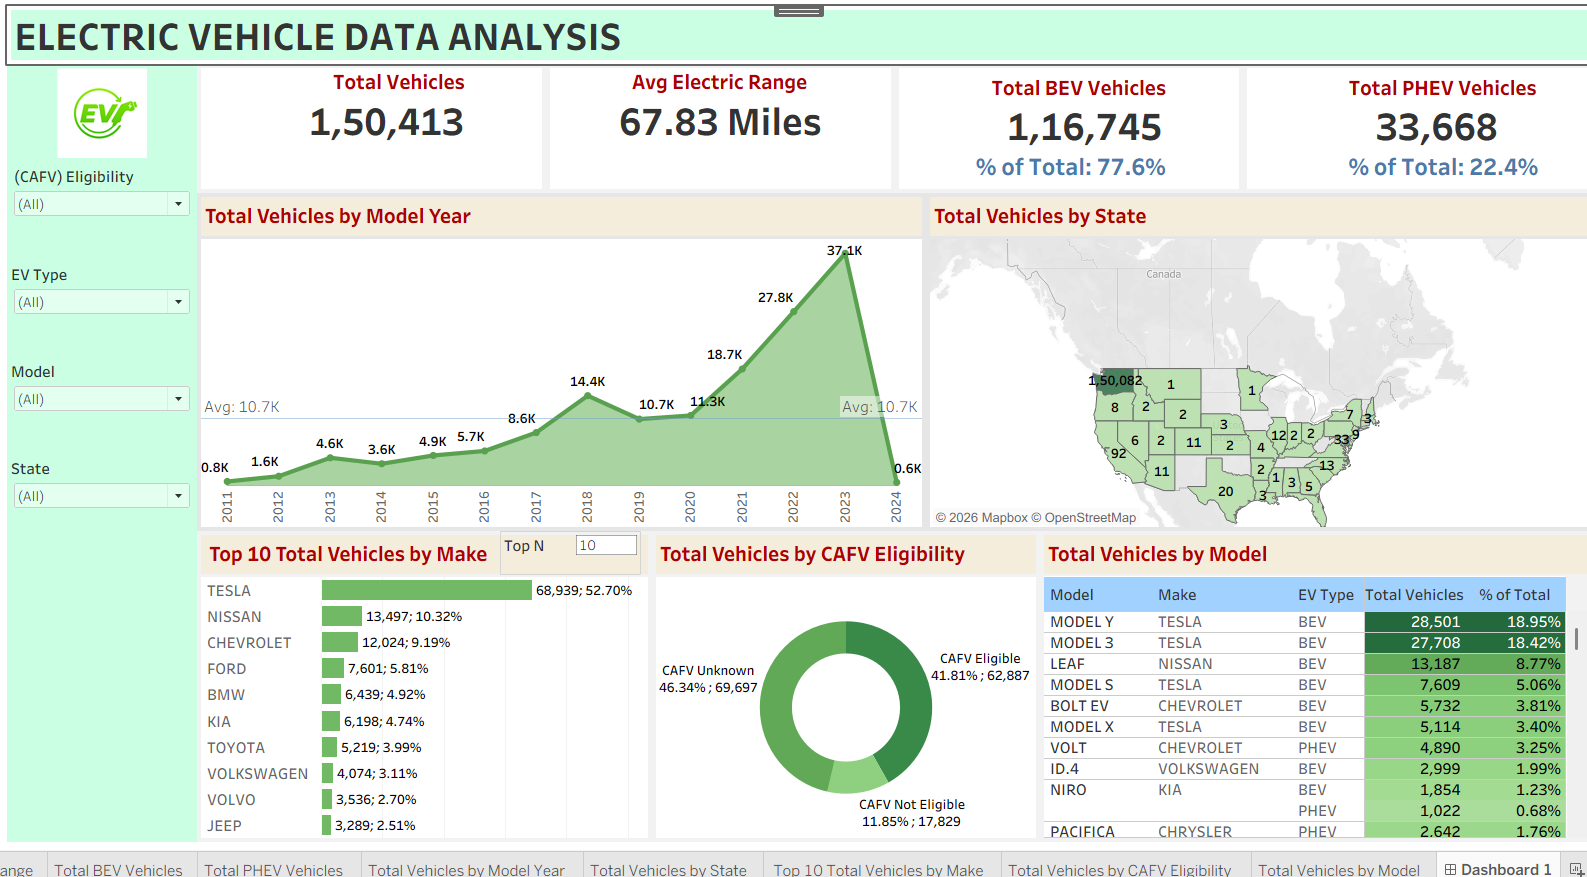

What the dashboard file says about the page in this screenshot:
{"tool":"tableau","page":{"name":"Dashboard 1","canvas":[1000,1000],"units":"permille","ordinal":0},"visuals":[{"type":"title","box":[5,9.4,990,68.1]},{"type":"image","param":"Image/evimage.jpg","box":[5,77.5,118.8,115]},{"type":"worksheet","title":"Total Vehicles","mark":"Automatic","box":[123.8,77.5,218.1,151.4]},{"type":"worksheet","title":"Avg Electric Range","mark":"Automatic","box":[341.9,77.5,218.1,151.4]},{"type":"worksheet","title":"Total BEV Vehicles","mark":"Automatic","box":[560,77.5,217.5,151.4]},{"type":"worksheet","title":"Total PHEV Vehicles ","mark":"Automatic","box":[777.5,77.5,217.5,151.4]},{"type":"filter","title":"Total Vehicles by Model Year","param":"[federated.1wbljgd14xtdz11cxtj3s09tbi4p].[none:Clean Alternative Fuel Vehicle (C","box":[5,192.5,118.8,115]},{"type":"worksheet","title":"Total Vehicles by Model Year","mark":"Area","rows":["Calculation_0516782866595840","Calculation_0516782866595840"],"cols":["Model Year"],"box":[123.8,228.9,455.6,396.7]},{"type":"worksheet","title":"Total Vehicles by State","mark":"Multipolygon","box":[579.4,228.9,415.6,396.7]},{"type":"filter","title":"Total Vehicles by Model Year","param":"[federated.1wbljgd14xtdz11cxtj3s09tbi4p].[none:Electric Vehicle Type:nk]","box":[5,307.5,118.8,113.9]},{"type":"filter","title":"Total Vehicles by Model Year","param":"[federated.1wbljgd14xtdz11cxtj3s09tbi4p].[none:Model:nk]","box":[5,421.4,118.8,113.9]},{"type":"filter","title":"Total Vehicles by Model Year","param":"[federated.1wbljgd14xtdz11cxtj3s09tbi4p].[none:State:nk]","box":[5,535.2,118.8,113.9]},{"type":"worksheet","title":" Top 10 Total Vehicles by Make","mark":"Automatic","rows":["Make"],"cols":["Calculation_0516782866595840"],"box":[123.8,625.6,284.4,365]},{"type":"parameter","param":"[Parameters].[Parameter 0516782966390793]","box":[313.1,625.6,88.1,51.6]},{"type":"worksheet","title":"Total Vehicles by CAFV Eligibility","mark":"Pie","rows":["Calculation_0516782971875339","Calculation_0516782971875339"],"box":[408.1,625.6,242.5,365]},{"type":"worksheet","title":"Total Vehicles by Model","mark":"Square","rows":["Model","Make","Electric Vehicle Type"],"box":[650.6,625.6,344.4,365]},{"type":"blank","box":[5,649.1,118.8,113.9]},{"type":"blank","box":[5,762.9,118.8,113.9]},{"type":"blank","box":[5,876.8,118.8,113.9]}]}

Visuals, with their boxes on the dashboard's canvas, which has no fixed pixel size, in thousandths of its width and height (x1, y1, x2, y2). These are canvas units, not pixel positions in the 1587x877 screenshot, which may show the page scaled, cropped or inside an application window:
title: [5, 9, 995, 78]
image: [5, 78, 124, 192]
"Total Vehicles" worksheet: [124, 78, 342, 229]
"Avg Electric Range" worksheet: [342, 78, 560, 229]
"Total BEV Vehicles" worksheet: [560, 78, 778, 229]
"Total PHEV Vehicles " worksheet: [778, 78, 995, 229]
"Total Vehicles by Model Year" filter: [5, 192, 124, 308]
"Total Vehicles by Model Year" worksheet (Area marks): [124, 229, 579, 626]
"Total Vehicles by State" worksheet (Multipolygon marks): [579, 229, 995, 626]
"Total Vehicles by Model Year" filter: [5, 308, 124, 421]
"Total Vehicles by Model Year" filter: [5, 421, 124, 535]
"Total Vehicles by Model Year" filter: [5, 535, 124, 649]
" Top 10 Total Vehicles by Make" worksheet: [124, 626, 408, 991]
parameter: [313, 626, 401, 677]
"Total Vehicles by CAFV Eligibility" worksheet (Pie marks): [408, 626, 651, 991]
"Total Vehicles by Model" worksheet (Square marks): [651, 626, 995, 991]
blank: [5, 649, 124, 763]
blank: [5, 763, 124, 877]
blank: [5, 877, 124, 991]
